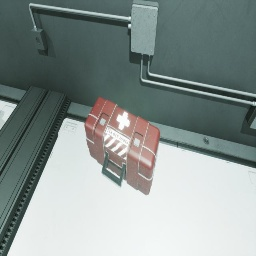FirstAidBox ,: (84, 97, 160, 195)
